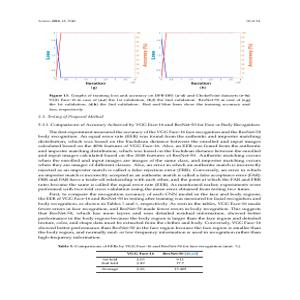diagram: (41, 25, 262, 94)
table: (88, 248, 210, 278)
text: (34, 96, 261, 241)
